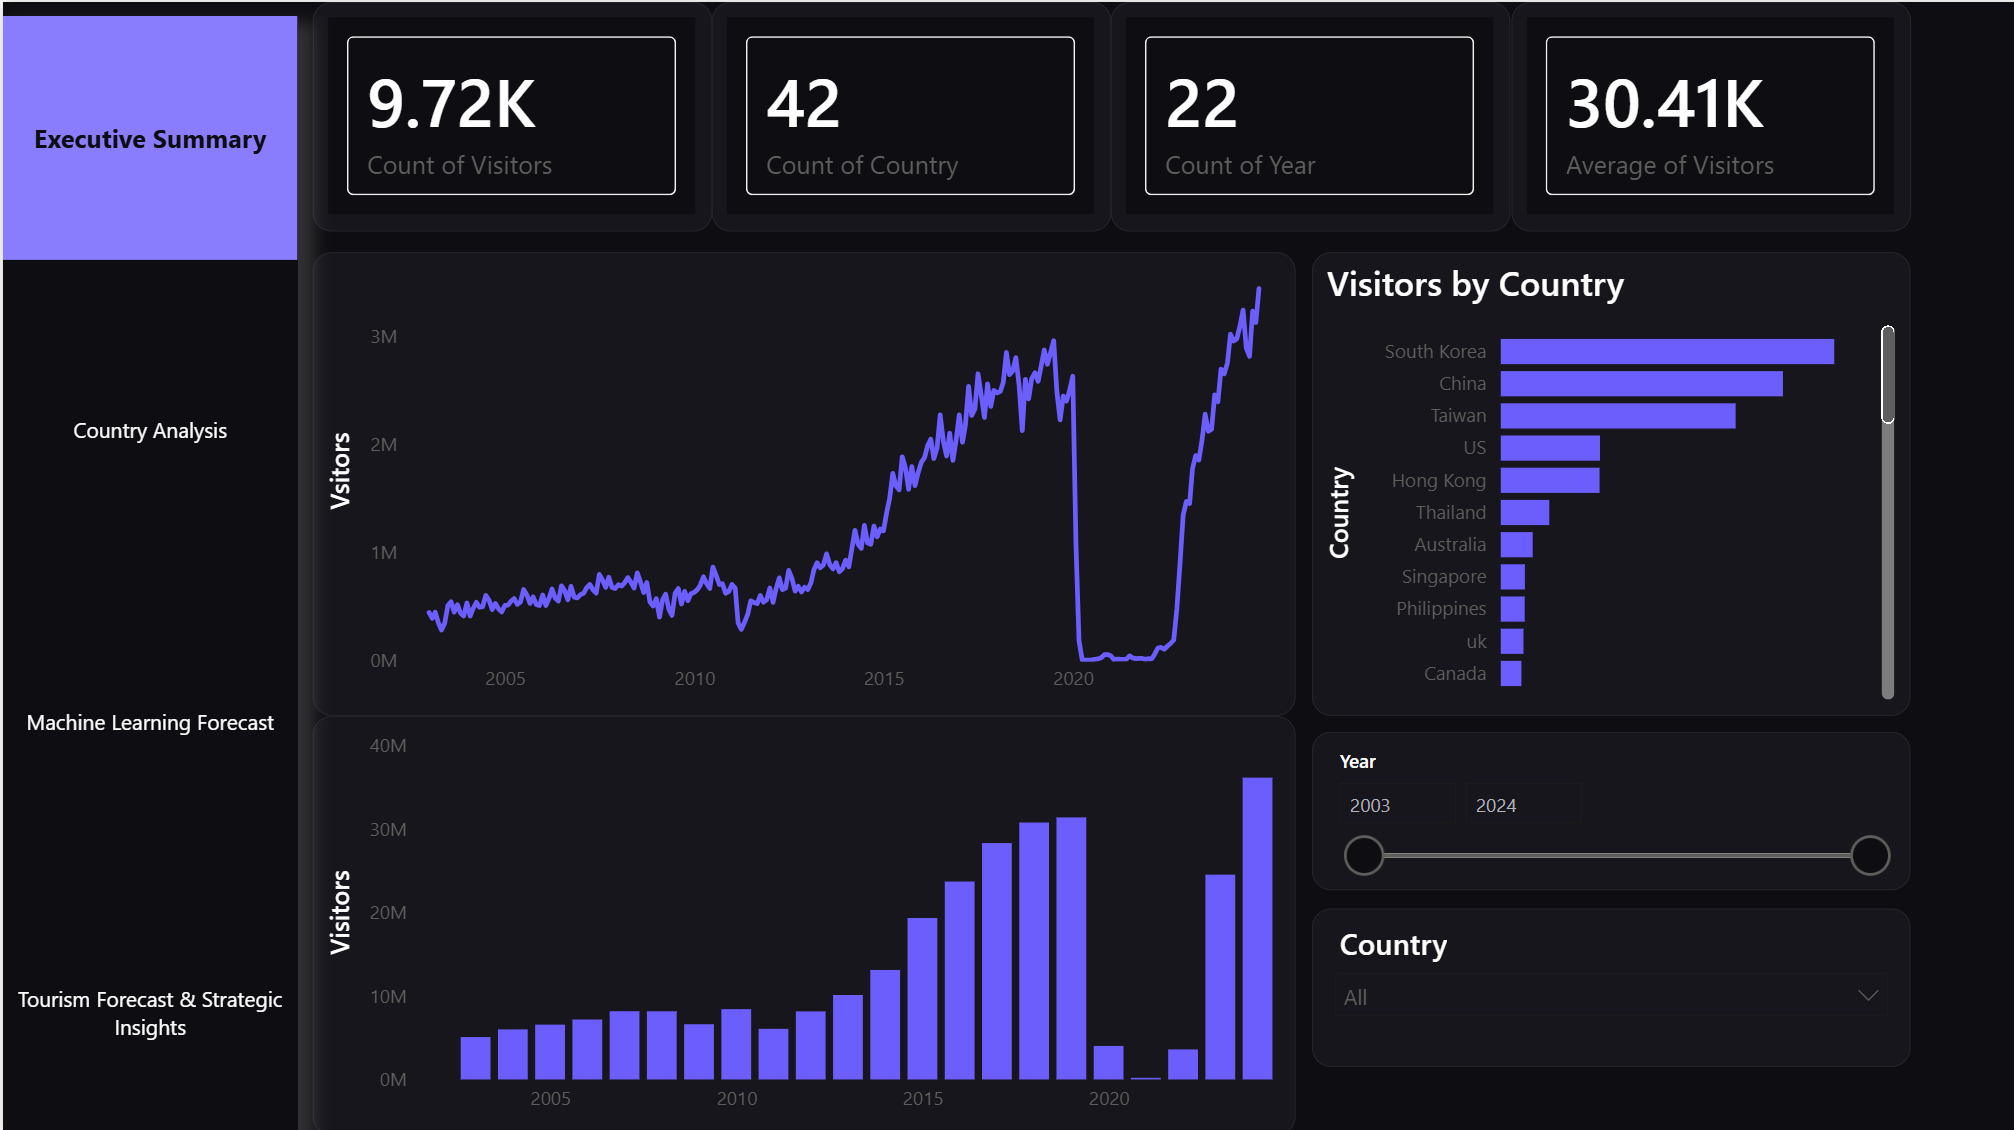

Layout of this report page (visuals, bound fields, positions):
{"tool":"powerbi","page":{"name":"Executive Summary","canvas":[1280,720],"ordinal":0},"visuals":[{"type":"cardVisual","fields":{"Data":["CountNonNull(JTD_cleaned_1.Visitors)"]},"box":[196.2,0,253.8,145.9],"z":0},{"type":"cardVisual","fields":{"Data":["Avg(JTD_cleaned_1.Visitors)"]},"box":[957.5,0,253.8,145.9],"z":1000},{"type":"cardVisual","fields":{"Data":["Count(JTD_cleaned_1.Country)"]},"box":[450,0,253.8,145.9],"z":2000},{"type":"cardVisual","fields":{"Data":["Count(JTD_cleaned_1.Year)"]},"box":[703.8,0,253.8,145.9],"z":3000},{"type":"lineChart","fields":{"Y":["Sum(JTD_cleaned_1.Visitors)"],"Category":["JTD_cleaned_1.Date"]},"box":[196.2,159.4,624.1,294.3],"z":4000},{"type":"clusteredBarChart","title":"Visitors by Country","fields":{"Y":["Sum(JTD_cleaned_1.Visitors)"],"Category":["JTD_cleaned_1.Country"]},"box":[831.3,159.4,380.1,294.3],"z":5000},{"type":"clusteredColumnChart","fields":{"Y":["Sum(JTD_cleaned_1.Visitors)"],"Category":["JTD_cleaned_1.Year"]},"box":[196.2,453.6,624.1,266.1],"z":6000},{"type":"slicer","fields":{"Values":["JTD_cleaned_1.Country"]},"box":[831.3,575,380.1,100.5],"z":7000},{"type":"slicer","fields":{"Values":["JTD_cleaned_1.Year"]},"box":[831.3,463.4,380.1,100.5],"z":8000},{"type":"pageNavigator","box":[0,8.6,187.6,711.1],"z":9000}]}

Visuals, with their boxes on the page's 1280x720 design canvas (x1, y1, x2, y2). These are canvas units, not pixel positions in the 2014x1130 screenshot, which may show the page scaled, cropped or inside an application window:
cardVisual - CountNonNull(JTD_cleaned_1.Visitors): bbox(196, 0, 450, 146)
cardVisual - Avg(JTD_cleaned_1.Visitors): bbox(958, 0, 1211, 146)
cardVisual - Count(JTD_cleaned_1.Country): bbox(450, 0, 704, 146)
cardVisual - Count(JTD_cleaned_1.Year): bbox(704, 0, 958, 146)
lineChart - Sum(JTD_cleaned_1.Visitors) x JTD_cleaned_1.Date: bbox(196, 159, 820, 454)
"Visitors by Country" clusteredBarChart: bbox(831, 159, 1211, 454)
clusteredColumnChart - Sum(JTD_cleaned_1.Visitors) x JTD_cleaned_1.Year: bbox(196, 454, 820, 720)
slicer - JTD_cleaned_1.Country: bbox(831, 575, 1211, 676)
slicer - JTD_cleaned_1.Year: bbox(831, 463, 1211, 564)
pageNavigator: bbox(0, 9, 188, 720)
